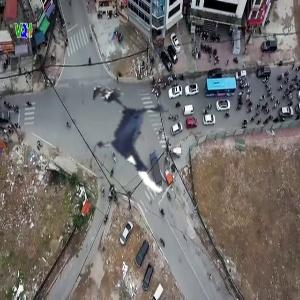drone: (89, 91, 192, 194)
